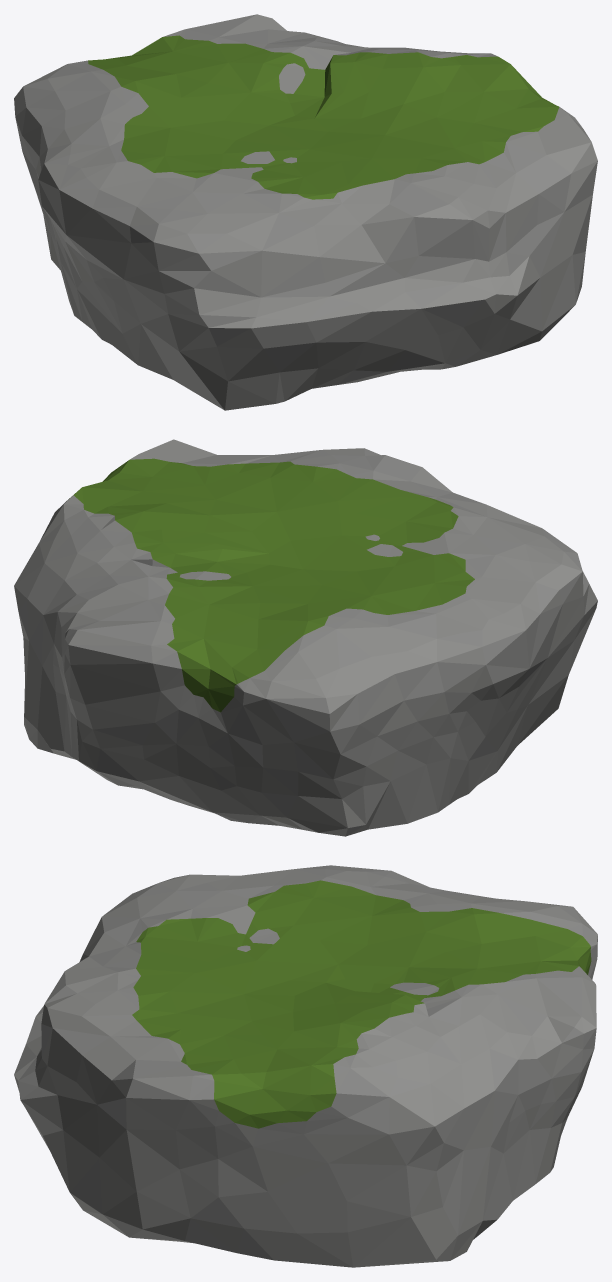
The model's file is Cavern_FloorGrass_Narrow_Corner-02.fbx.
The picture shows the model from 3 angles, top to bottom: view 1: azimuth 30°, elevation 25°; view 2: azimuth 150°, elevation 25°; view 3: azimuth 270°, elevation 25°; orthographic projection. The views are drawn at different scales.
Parts seen in each view (by area): view 1: Cavern_FloorGrass_Narrow_Corner-02; view 2: Cavern_FloorGrass_Narrow_Corner-02; view 3: Cavern_FloorGrass_Narrow_Corner-02.
Part boxes in pixels (box(x1,y1,x2,y2)): Cavern_FloorGrass_Narrow_Corner-02: box(14, 14, 597, 410); Cavern_FloorGrass_Narrow_Corner-02: box(14, 439, 597, 836); Cavern_FloorGrass_Narrow_Corner-02: box(14, 865, 597, 1267).
Size of the model in its own units: 1174 by 510 by 1231.
1 material, 1 textured.
